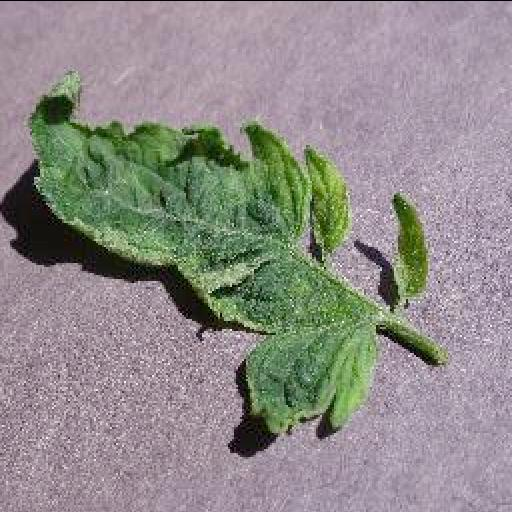disease_tomato: (26, 66, 430, 436)
